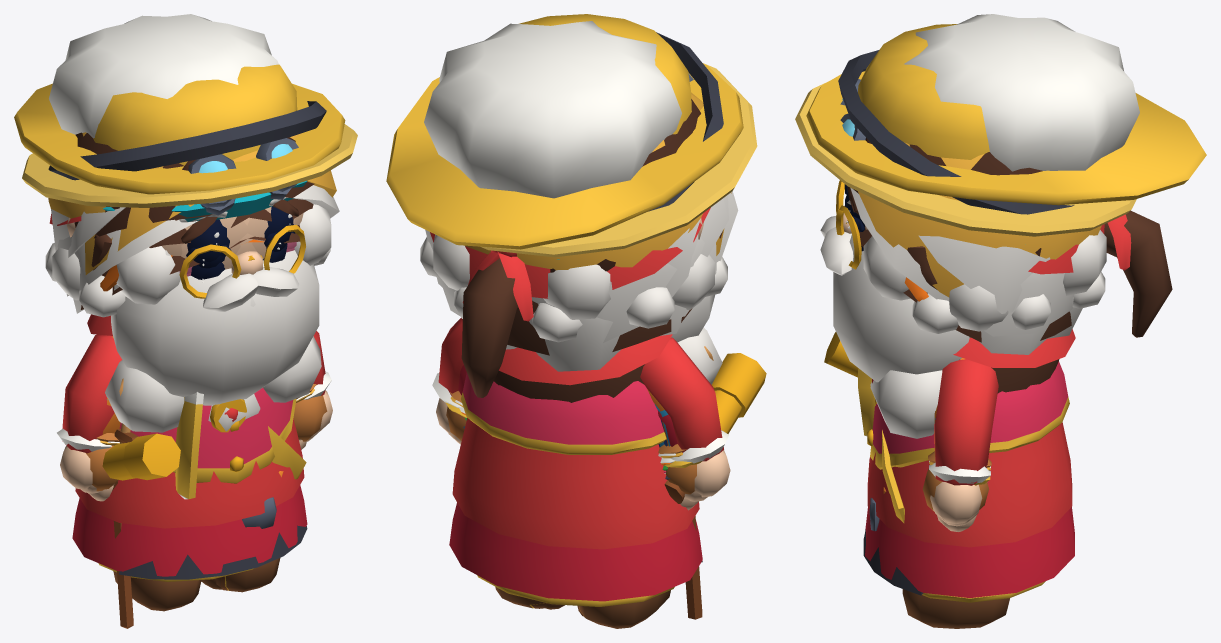
Rendered from crew.glb.
3 views of the same model, side by side, from view 1: azimuth 30°, elevation 25°; view 2: azimuth 150°, elevation 25°; view 3: azimuth 270°, elevation 25° (orthographic). The views are drawn at different scales.
Visible parts, largest first — view 1: head (×10), body (×4), arm_r (×4), arm_l (×2), leg_r, leg_l; view 2: head (×10), body (×3), arm_r (×5), arm_l, leg_r; view 3: head (×11), body (×4), arm_l (×2), leg_l, arm_r.
Boxes of the visible parts, x1,y1,x2,y2 form: head (×10): [14, 14, 357, 432]; body (×4): [72, 388, 307, 581]; arm_r (×4): [57, 334, 180, 628]; arm_l (×2): [293, 331, 332, 441]; leg_r: [113, 571, 201, 611]; leg_l: [226, 558, 280, 592]; head (×10): [386, 14, 757, 402]; body (×3): [449, 372, 702, 606]; arm_r (×5): [640, 337, 766, 619]; arm_l: [432, 318, 463, 433]; leg_r: [579, 590, 670, 628]; head (×11): [795, 14, 1206, 438]; body (×4): [858, 361, 1074, 602]; arm_l (×2): [922, 358, 998, 523]; leg_l: [902, 589, 1009, 628]; arm_r: [824, 332, 857, 377].
Size of the model in its own units: 0.6607 by 1.16 by 0.7624.
